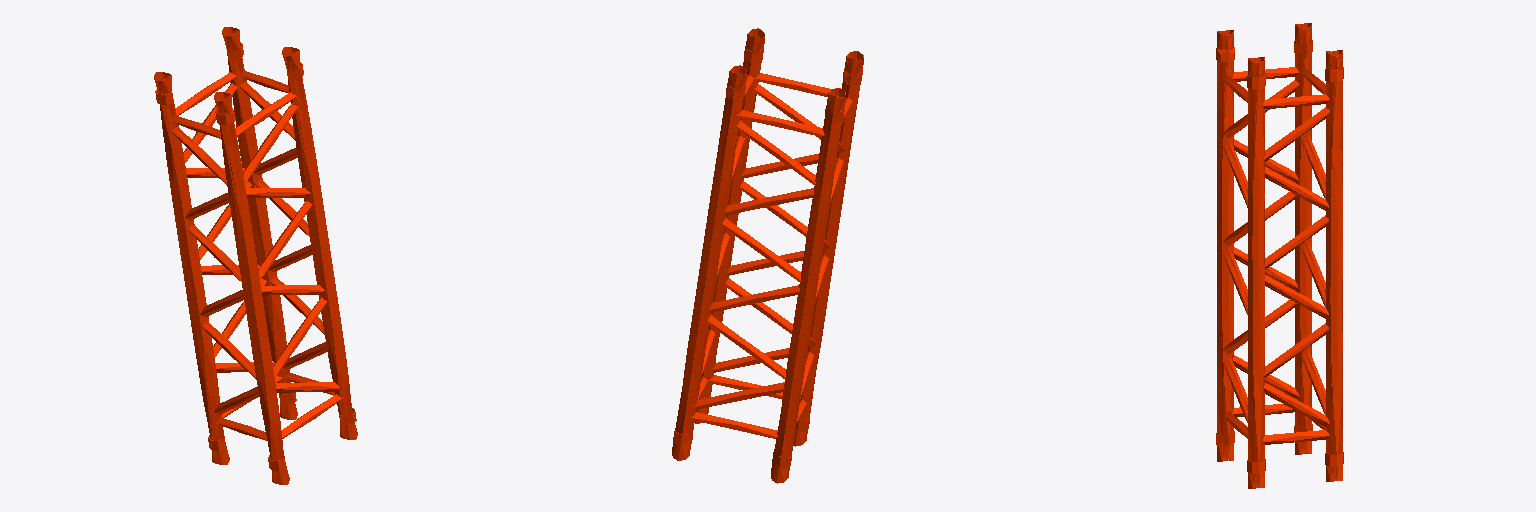
3 renders of one model, left to right at view 1: azimuth 30°, elevation 25°; view 2: azimuth 150°, elevation 25°; view 3: azimuth 270°, elevation 25°, orthographic.
Parts seen in each view (by area): view 1: g[number redacted]_1; view 2: g[number redacted]_1; view 3: g[number redacted]_1.
Boxes of the visible parts, x1=… form: g[number redacted]_1: x1=154, y1=27, x2=357, y2=484; g[number redacted]_1: x1=672, y1=28, x2=863, y2=483; g[number redacted]_1: x1=1216, y1=23, x2=1343, y2=488.
Size of the model in its own units: 501 by 1132 by 311.